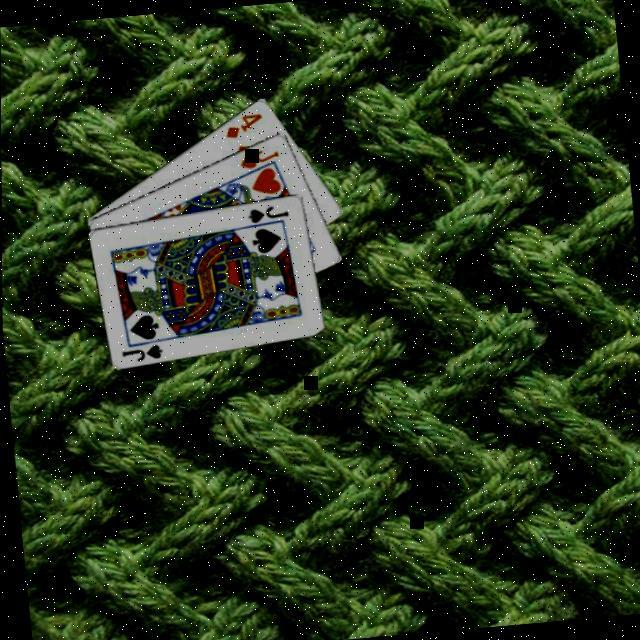4D: (223, 110, 268, 144)
JH: (238, 146, 285, 173)
JS: (245, 202, 293, 227), (120, 342, 167, 366)
